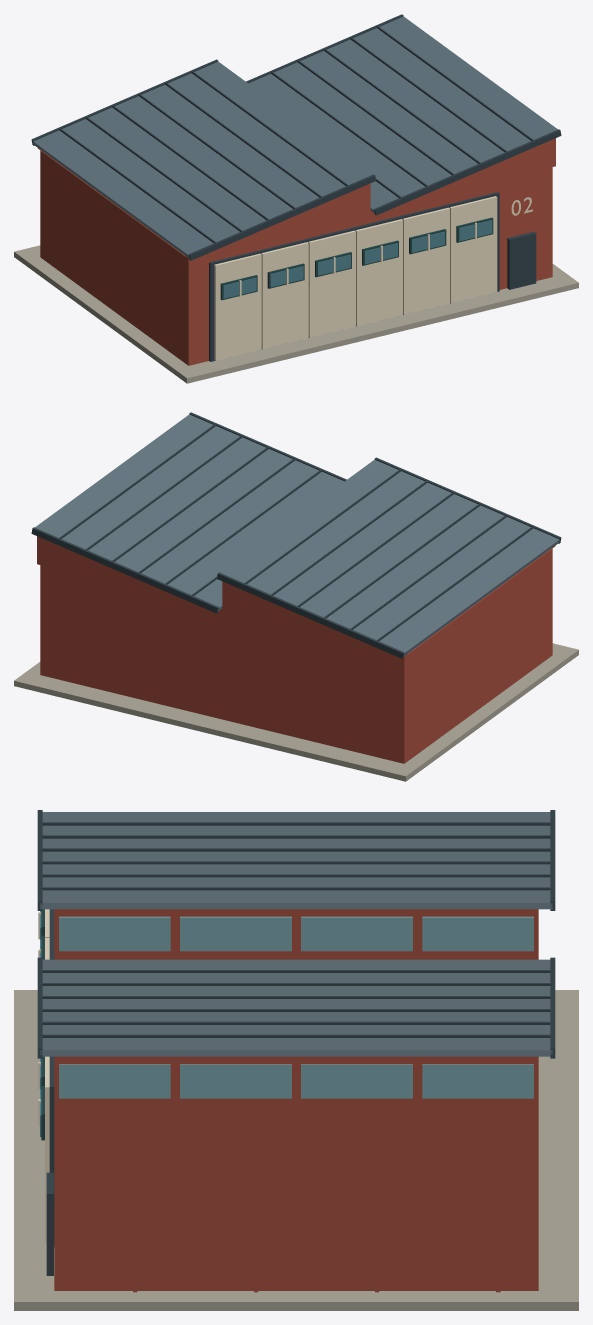
Rendered from sawtooth_workshop_hangar.glb.
3 views of the same model, one above another, from view 1: azimuth 30°, elevation 25°; view 2: azimuth 150°, elevation 25°; view 3: azimuth 270°, elevation 25° (orthographic). The views are drawn at different scales.
Parts seen in each view (by area): view 1: sawtooth_workshop_hangar; view 2: sawtooth_workshop_hangar; view 3: sawtooth_workshop_hangar.
Part boxes in pixels (x1,y1,x2,y2): sawtooth_workshop_hangar: (14, 14, 578, 383); sawtooth_workshop_hangar: (14, 412, 578, 781); sawtooth_workshop_hangar: (14, 810, 578, 1310).
Size of the model in its own units: 18.3 by 6.93 by 14.
